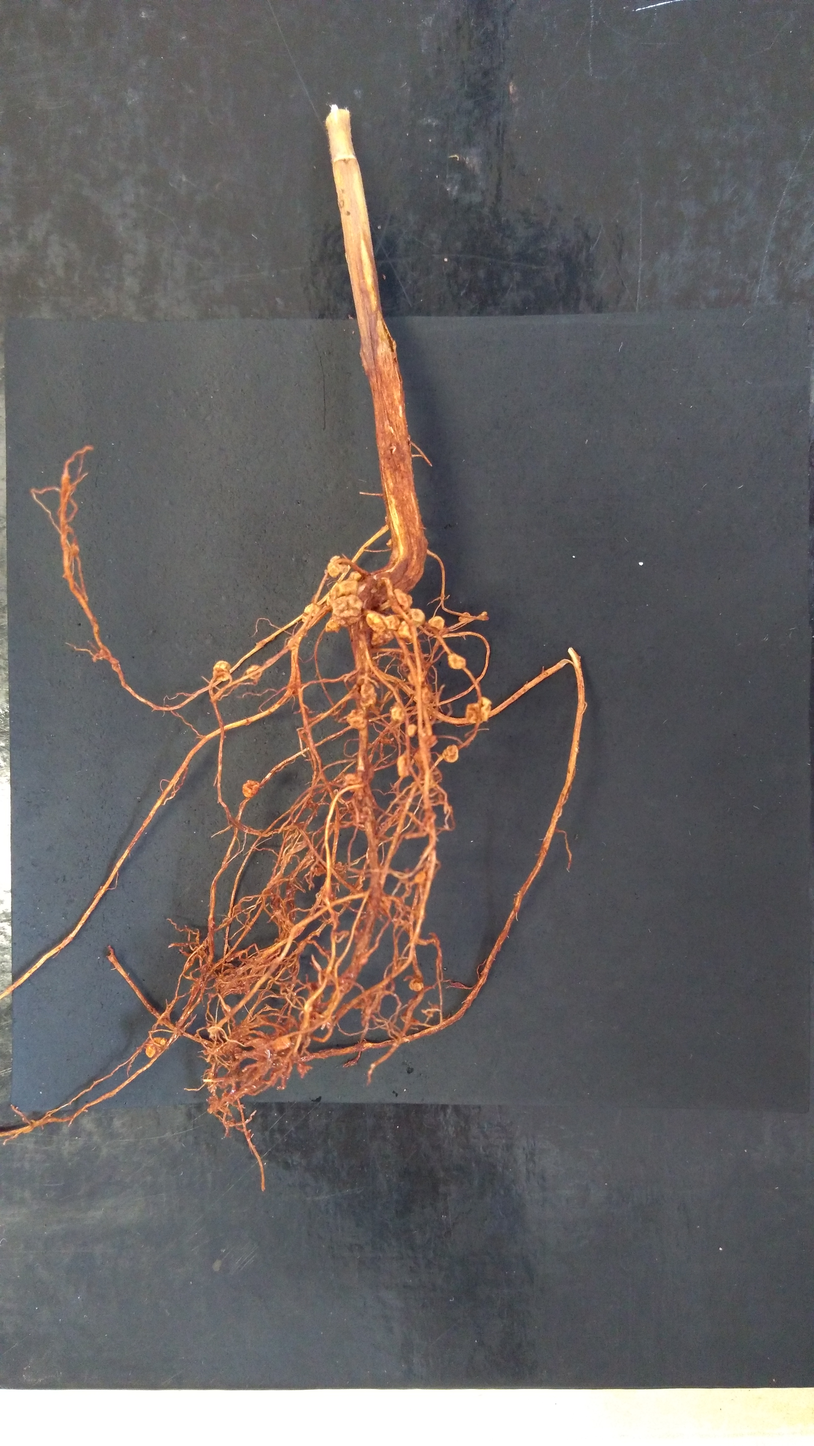nodule: (327, 580, 358, 606), (142, 1034, 170, 1058), (335, 594, 363, 617), (358, 682, 380, 708), (326, 554, 349, 578), (346, 707, 369, 731), (393, 587, 415, 611), (370, 629, 397, 648), (212, 659, 233, 683), (395, 750, 413, 778), (441, 743, 463, 765), (480, 692, 494, 725), (301, 602, 322, 623), (364, 612, 386, 632), (464, 701, 480, 726), (344, 773, 364, 793), (447, 652, 469, 670), (241, 779, 260, 799), (397, 619, 414, 641), (383, 614, 402, 633), (406, 668, 426, 686), (388, 703, 405, 723), (245, 663, 264, 680), (413, 686, 432, 703), (407, 606, 425, 623), (427, 614, 446, 630), (272, 1036, 292, 1051), (324, 619, 342, 635), (407, 980, 427, 993), (377, 895, 392, 912), (405, 722, 418, 738), (347, 570, 363, 581), (457, 611, 471, 623), (415, 870, 426, 885)
